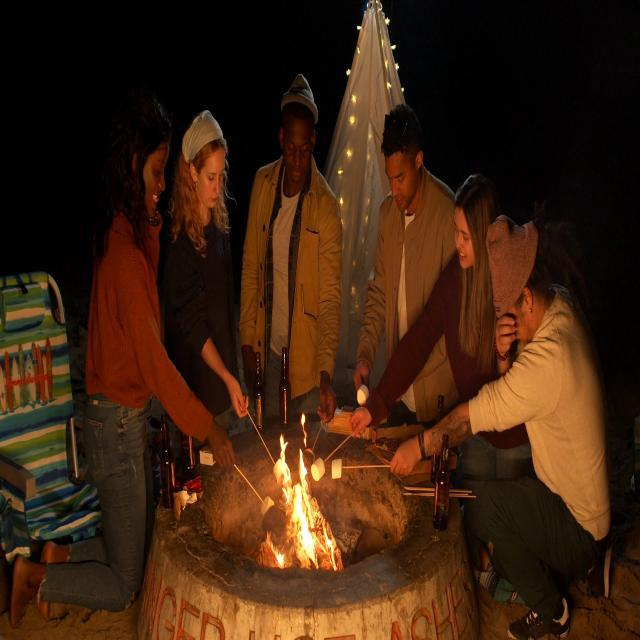Fire: (264, 432, 338, 565)
